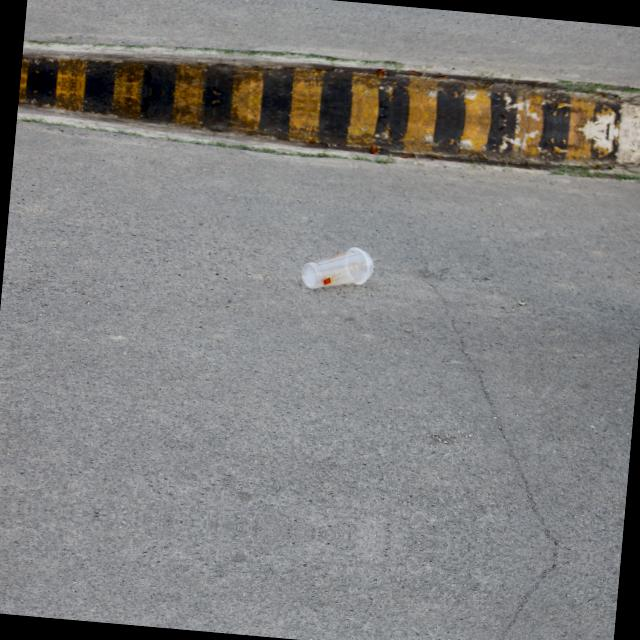Plastic: (299, 241, 376, 294)
